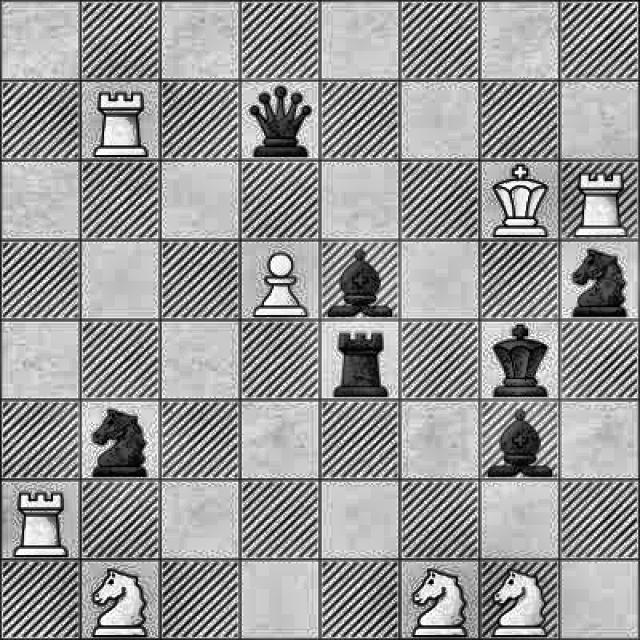Black Knight: (83, 398, 159, 483), (561, 243, 638, 320)
black bishop: (478, 401, 561, 479), (328, 244, 397, 316)
black king: (479, 322, 557, 396)
black queen: (244, 80, 320, 162)
black rook: (325, 324, 396, 402)
white king: (486, 165, 560, 238)
white pawn: (248, 241, 318, 320)
white rook: (85, 81, 156, 160), (9, 485, 76, 561), (567, 157, 631, 235)
whiteknight: (402, 560, 476, 640), (480, 562, 551, 640), (86, 558, 148, 640)
